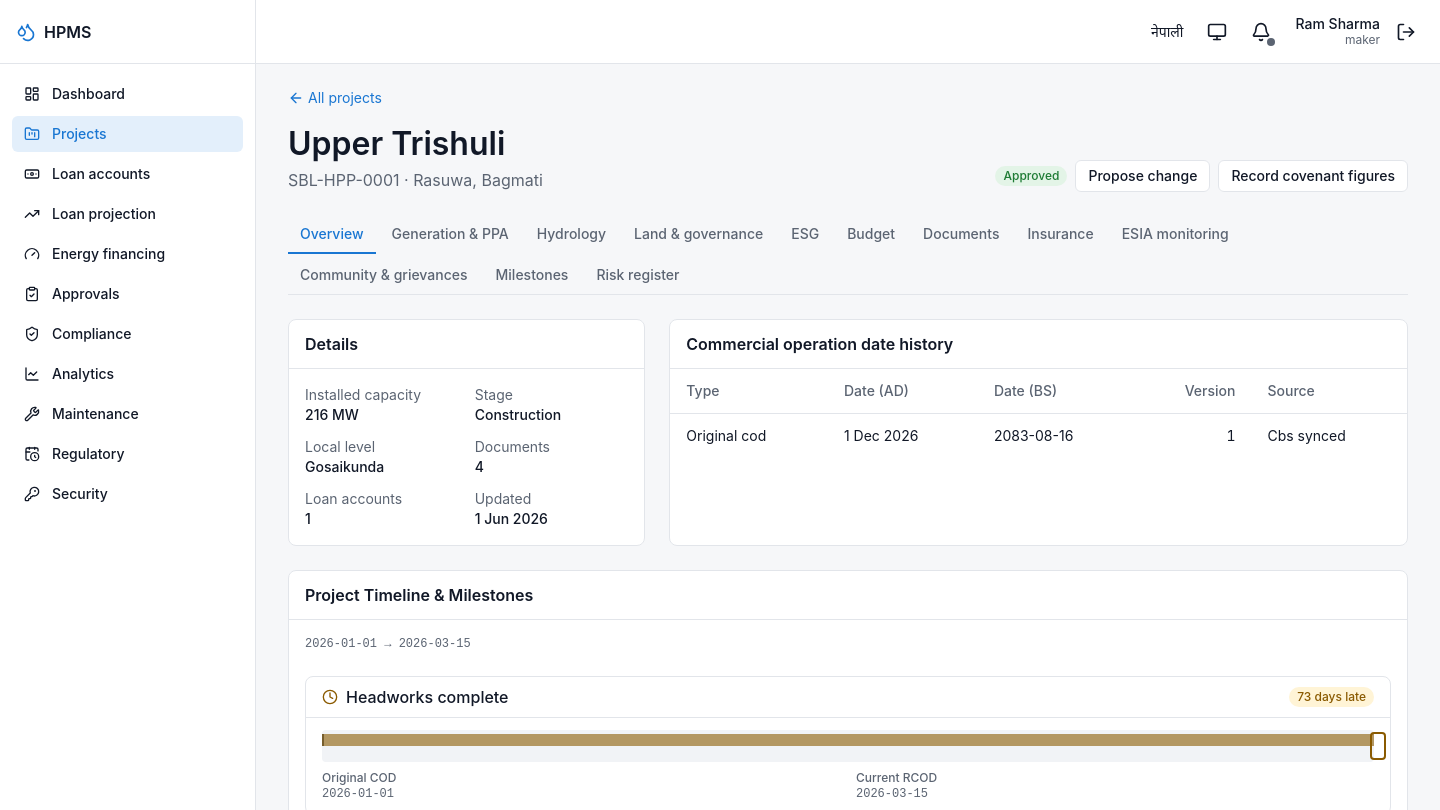
Test case: proposing a change from a project › submits only the fields that changed, with the justification
Click the button "Propose change" at x=1143, y=176, box [1075,160,1210,192]
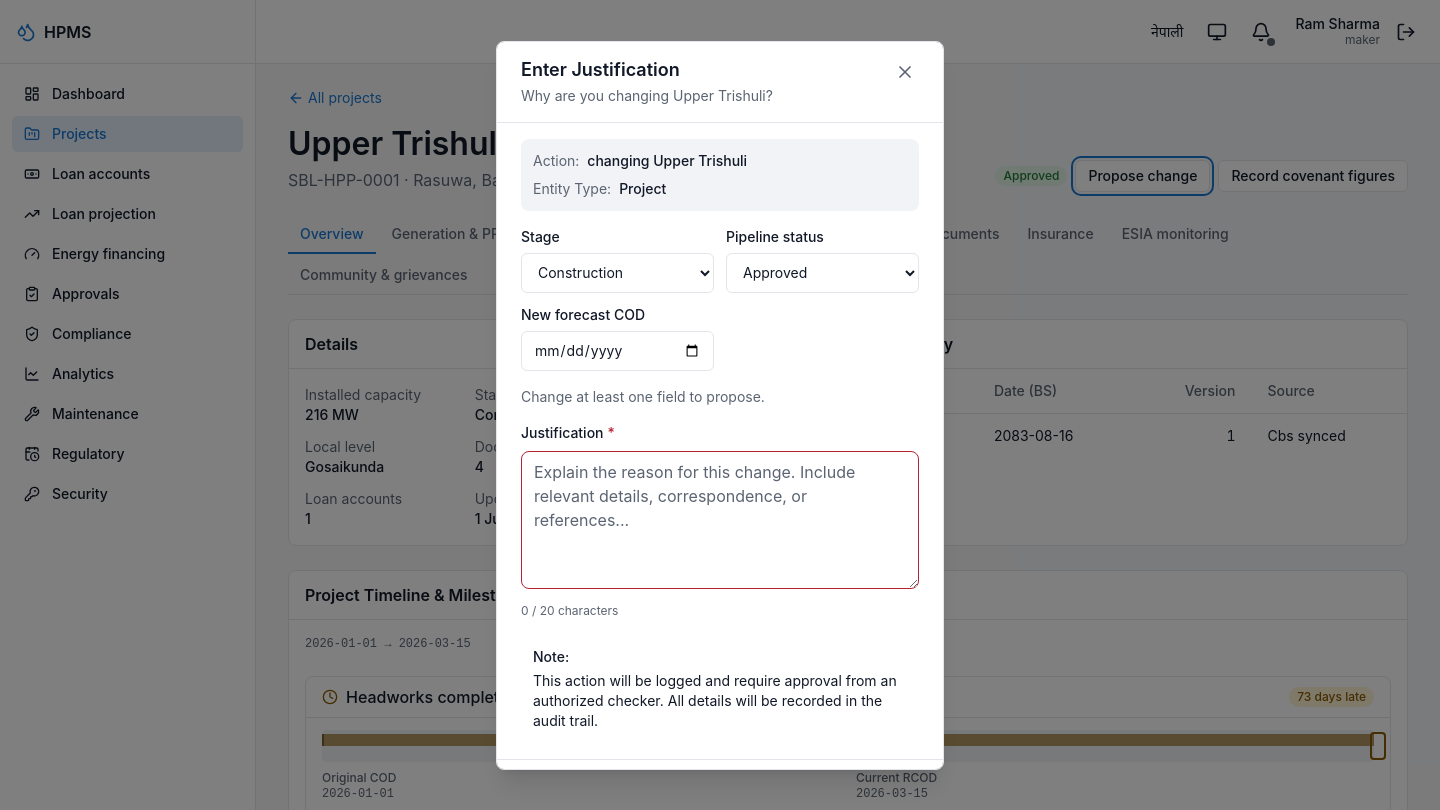
Note: A justification alone is not a change
Type "Plant commissioned on schedule" into the text box labelled "Justification*" at x=720, y=520, box [521,450,919,588]
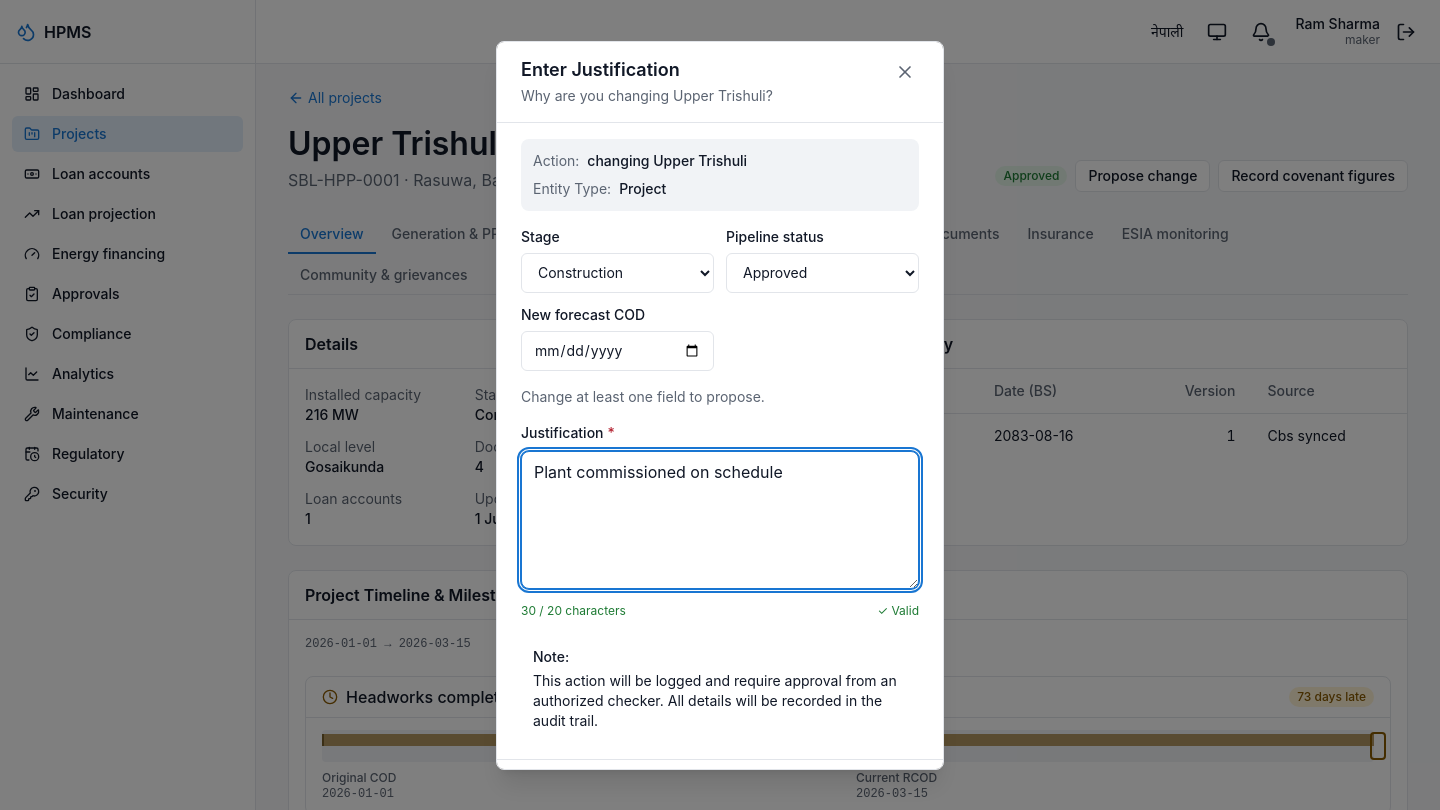
Select "Under operation" in the dropdown labelled "Pipeline status" at x=822, y=272, box [726,252,919,292]
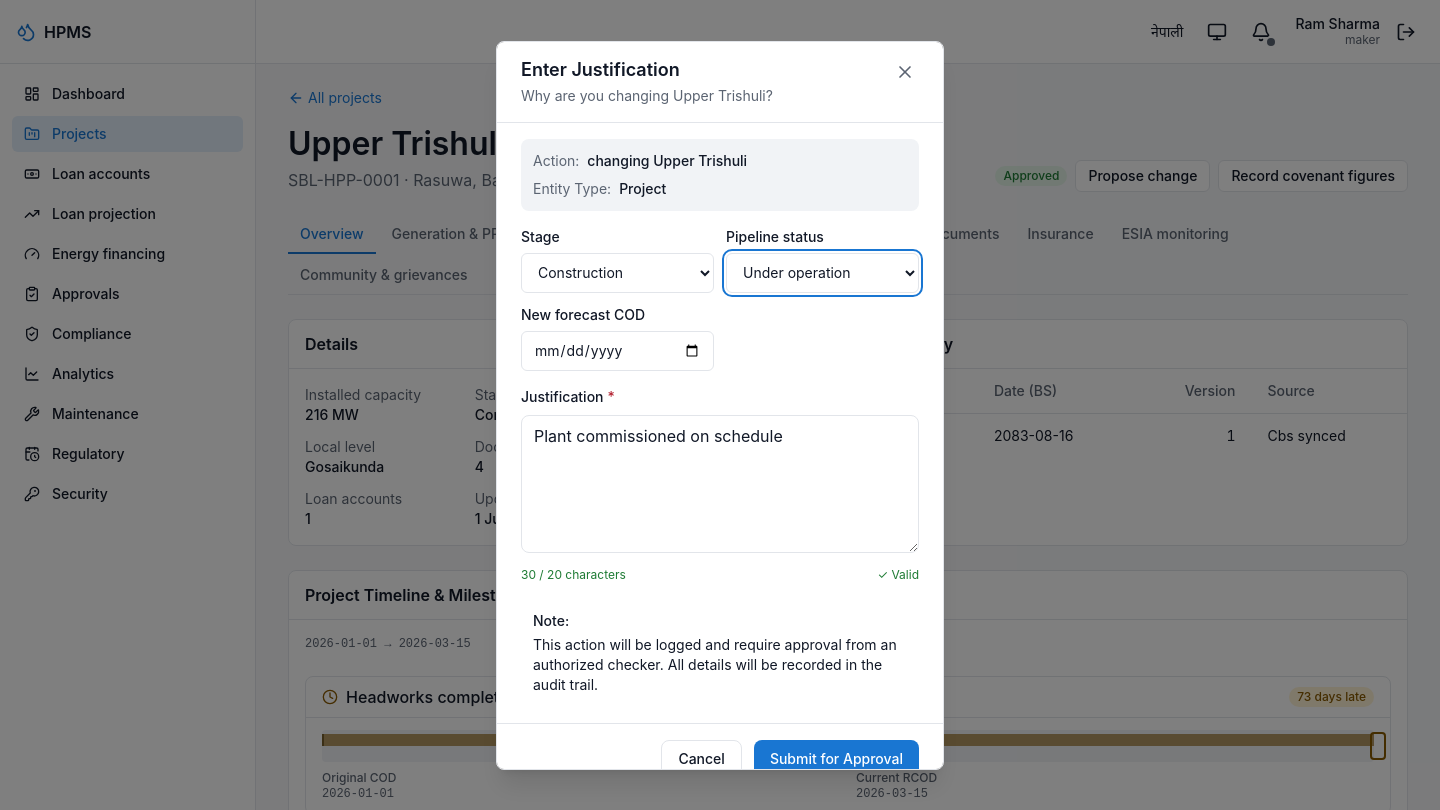
Click the button "Submit for Approval" at x=836, y=758, box [754,740,919,778]
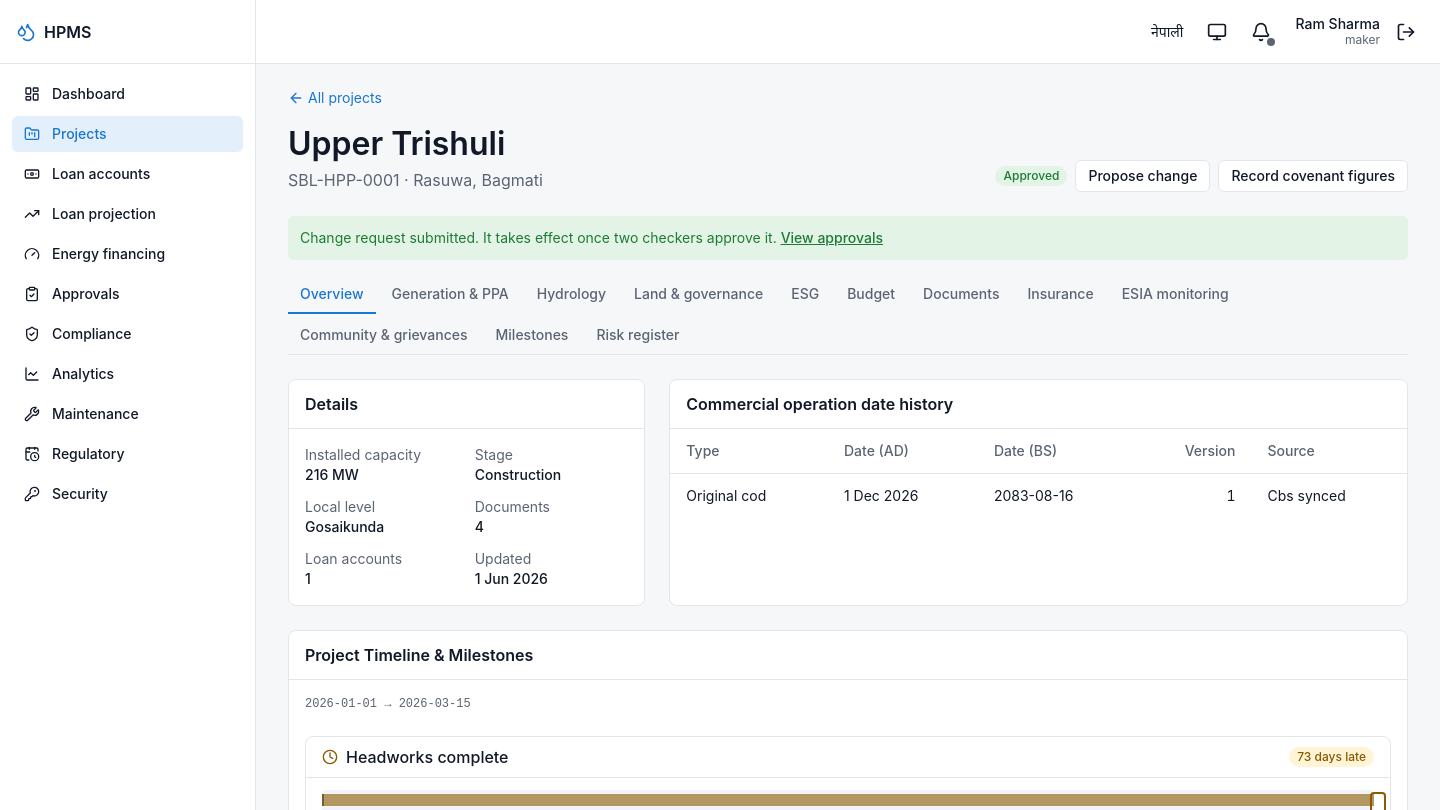
expect the message shows "Change request submitted": met, box [300,229,777,246]
expect the dialog is gone: met
